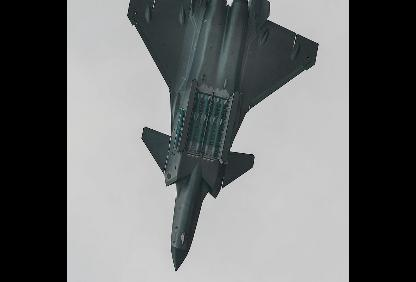F4: (126, 0, 320, 271)
